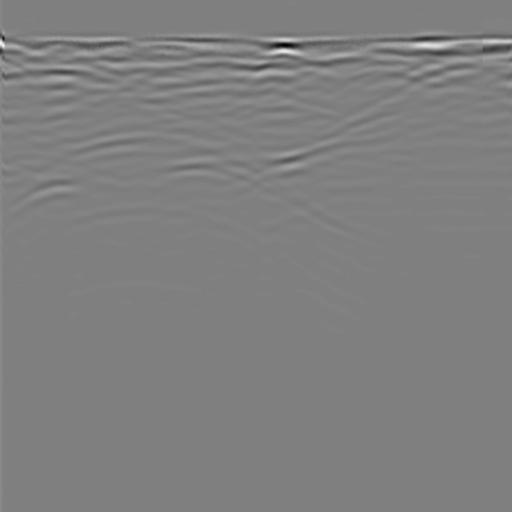hyperbola: (20, 123, 283, 247)
